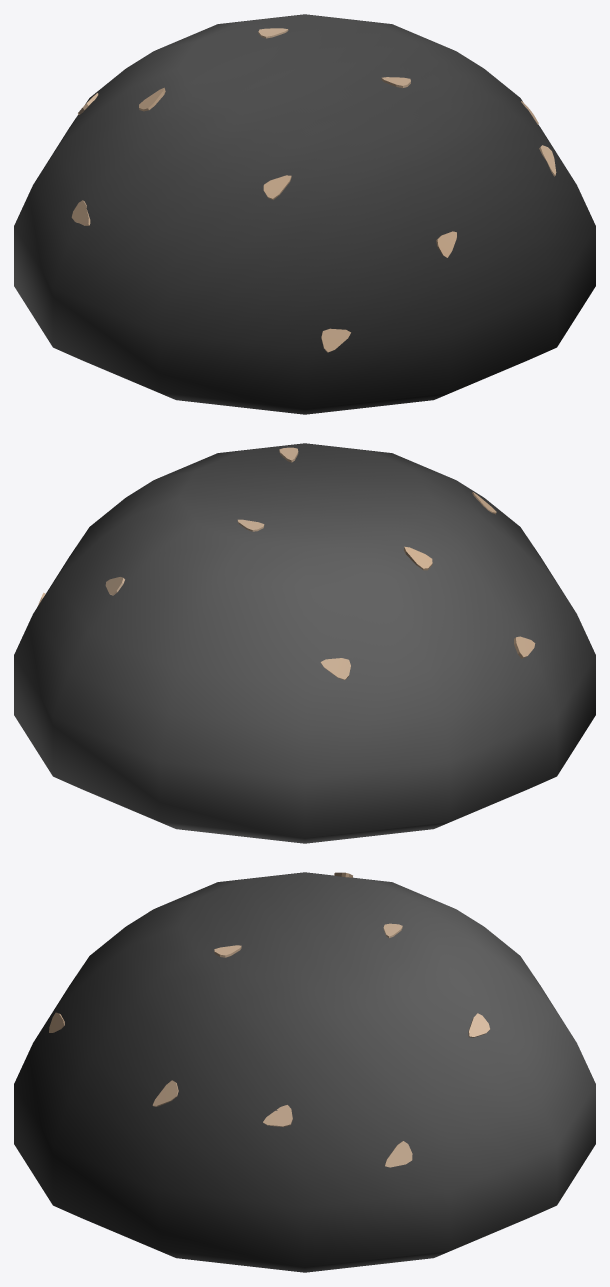
The model's file is Burger Bread Burn_1.fbx.
3 views of the same model, one above another, from view 1: azimuth 30°, elevation 25°; view 2: azimuth 150°, elevation 25°; view 3: azimuth 270°, elevation 25° (orthographic).
Visible parts, largest first — view 1: Burger Bread Burn_1; view 2: Burger Bread Burn_1; view 3: Burger Bread Burn_1.
Part boxes in pixels (box(x1,y1,x2,y2)): Burger Bread Burn_1: box(14, 14, 595, 414); Burger Bread Burn_1: box(14, 443, 595, 843); Burger Bread Burn_1: box(14, 872, 595, 1272).
Bounding box in the file's own units: 0.12 × 0.0546 × 0.12.
